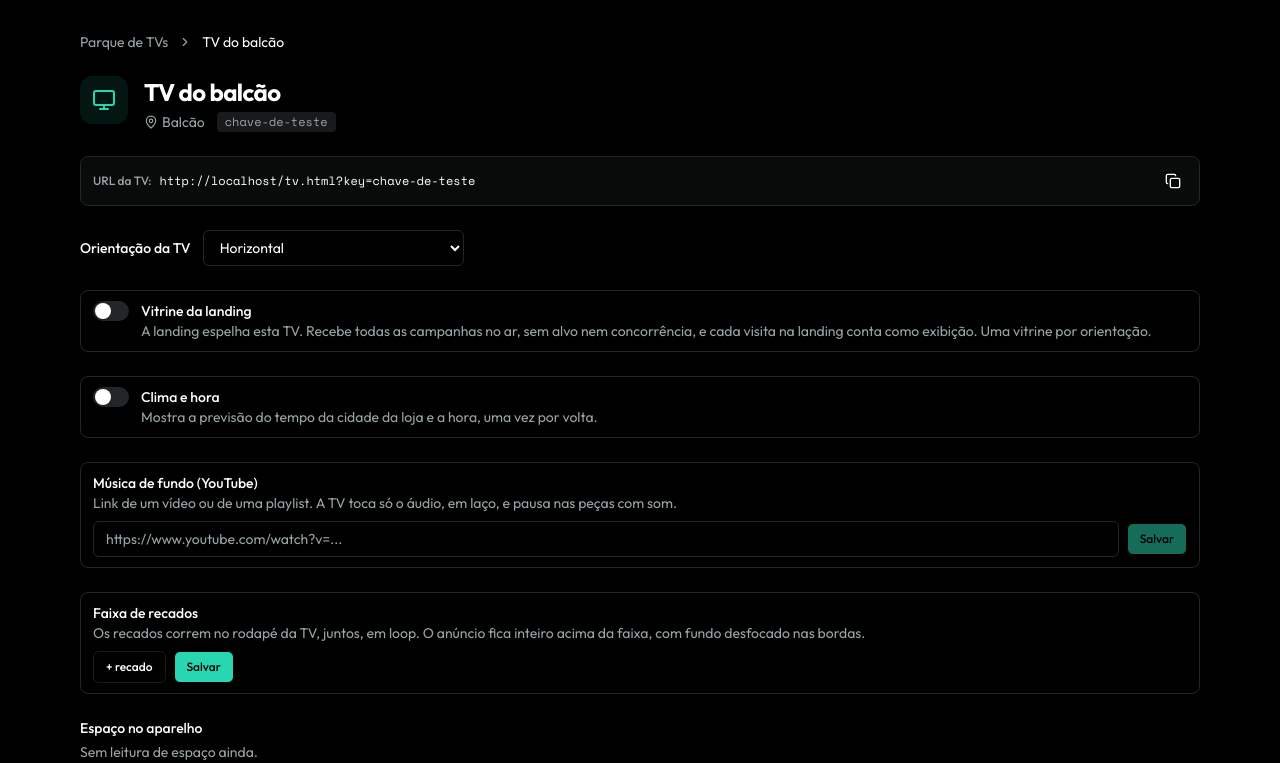
Test: música de fundo › salvar manda o link no PATCH e confirma
The image size is (1280, 763).
In the field labelled "Música de fundo (YouTube)": (606, 539) [93, 521, 1119, 557], type "https://www.youtube.com/watch?v=dQw4w9WgXcQ"
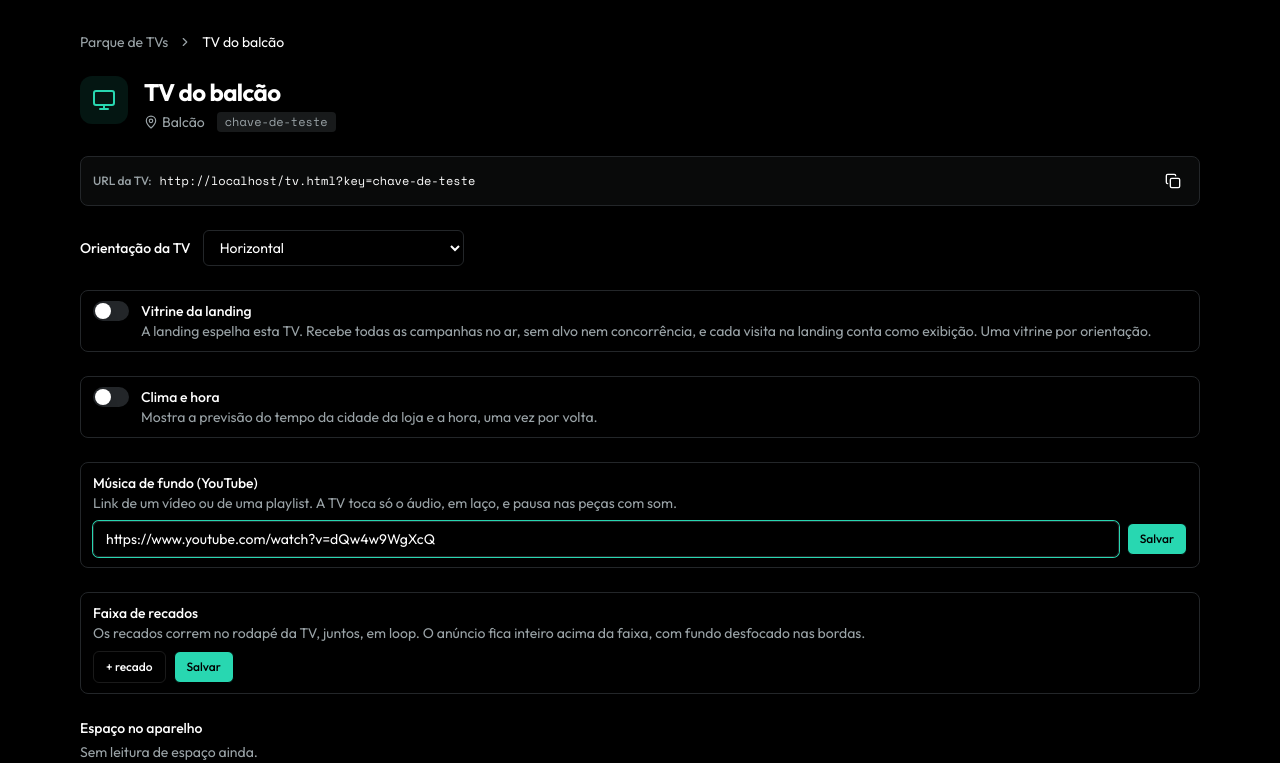
Click the 1st button "Salvar": (1157, 539) [1127, 523, 1187, 555]
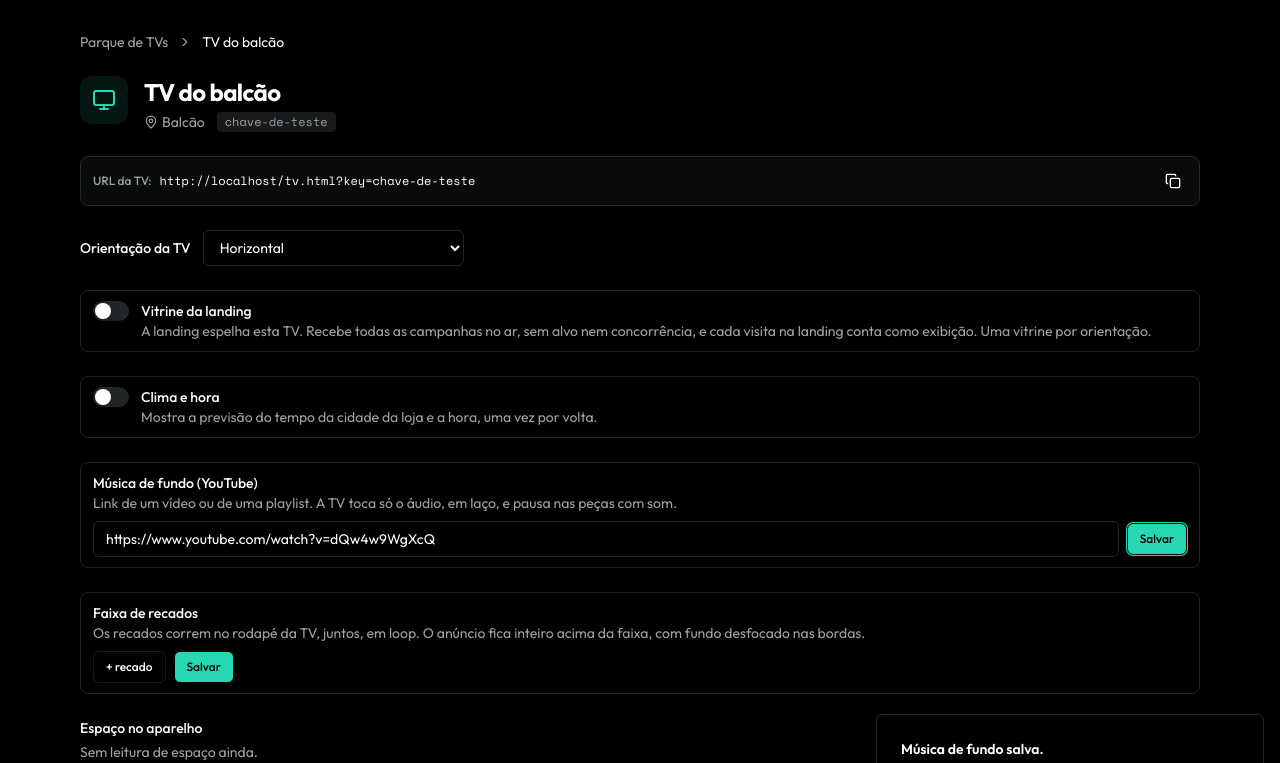
Check: the text "Música de fundo salva." is shown, box [901, 739, 1044, 759]
